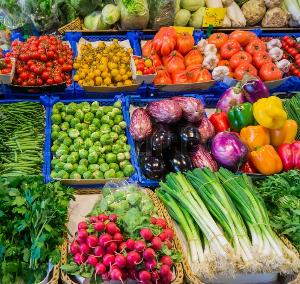bell_pepper: (224, 97, 300, 177)
radish: (56, 182, 166, 284)
tomato: (14, 30, 77, 94), (209, 32, 275, 84), (146, 25, 200, 86)
